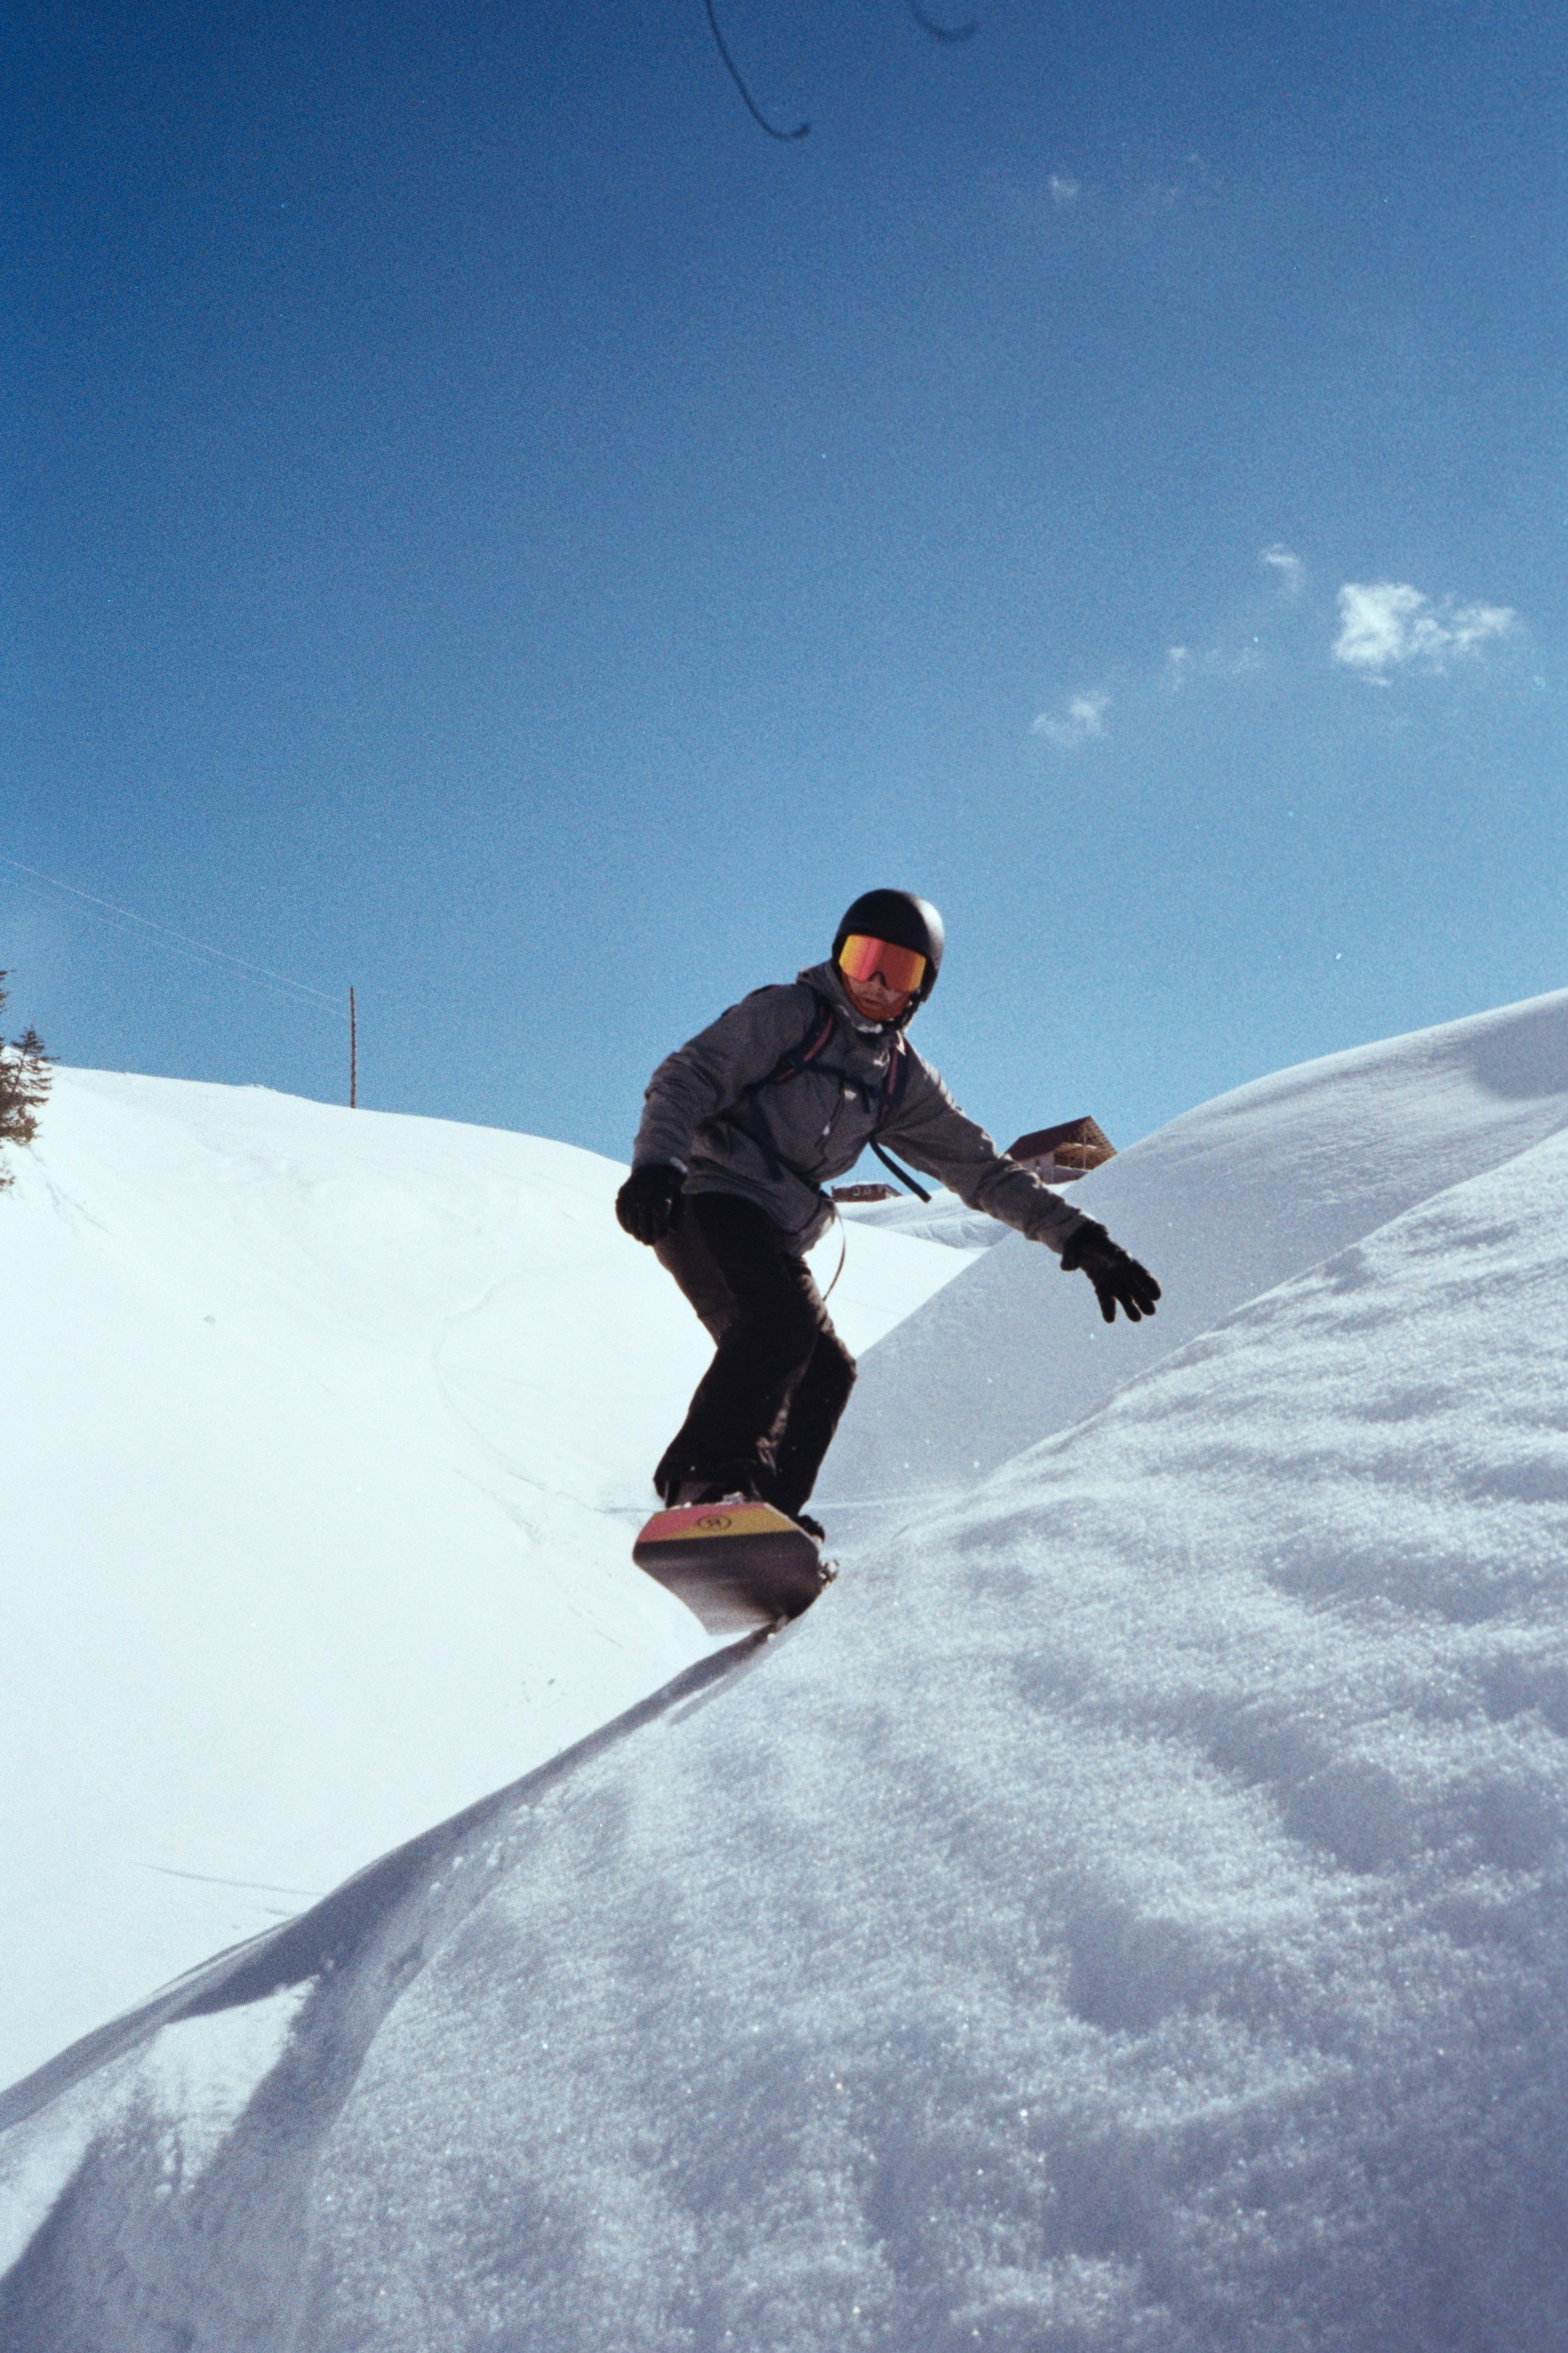snowboarder: (555, 876, 1165, 1651)
